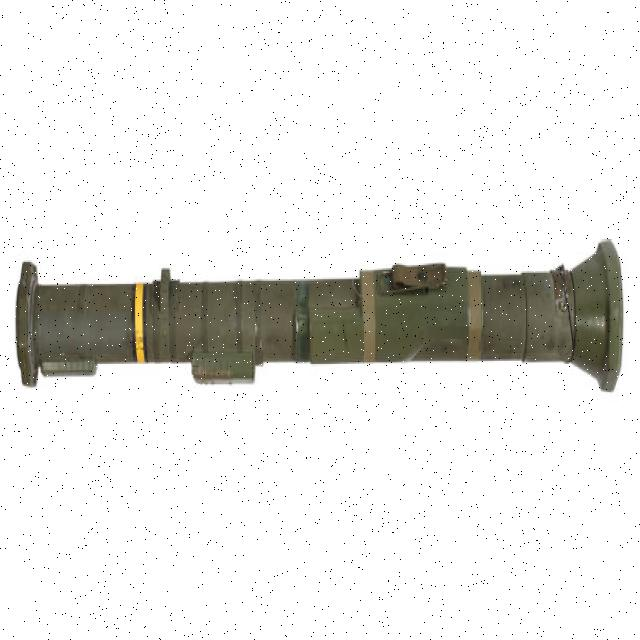bazooka: (9, 239, 634, 397)
